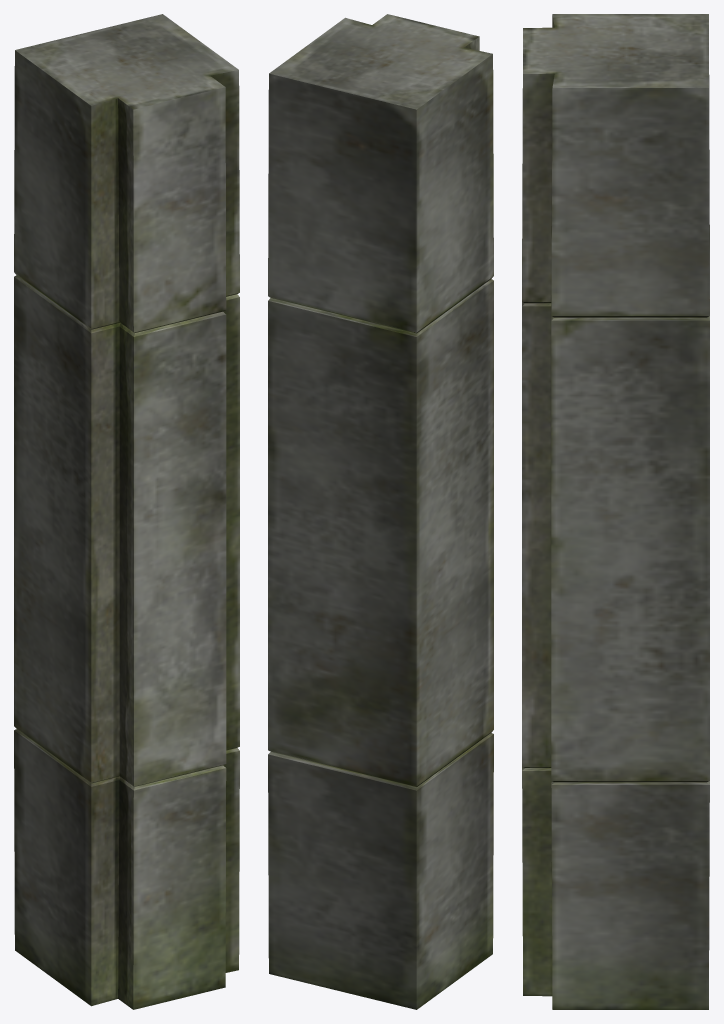
Rendered from pillar_type007.FBX.
3 views of the same model, side by side, from view 1: azimuth 30°, elevation 25°; view 2: azimuth 150°, elevation 25°; view 3: azimuth 270°, elevation 25° (orthographic). The views are drawn at different scales.
Visible parts, largest first — view 1: pillar_type007; view 2: pillar_type007; view 3: pillar_type007.
Part boxes in pixels (x1,y1,x2,y2): pillar_type007: (14,14,239,1009); pillar_type007: (268,14,493,1009); pillar_type007: (522,14,709,1009).
Bounding box in the file's own units: 140 × 812 × 150.
